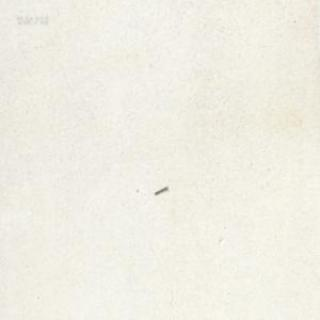Bolttrack_idkeyframe: (152, 183, 166, 194)
